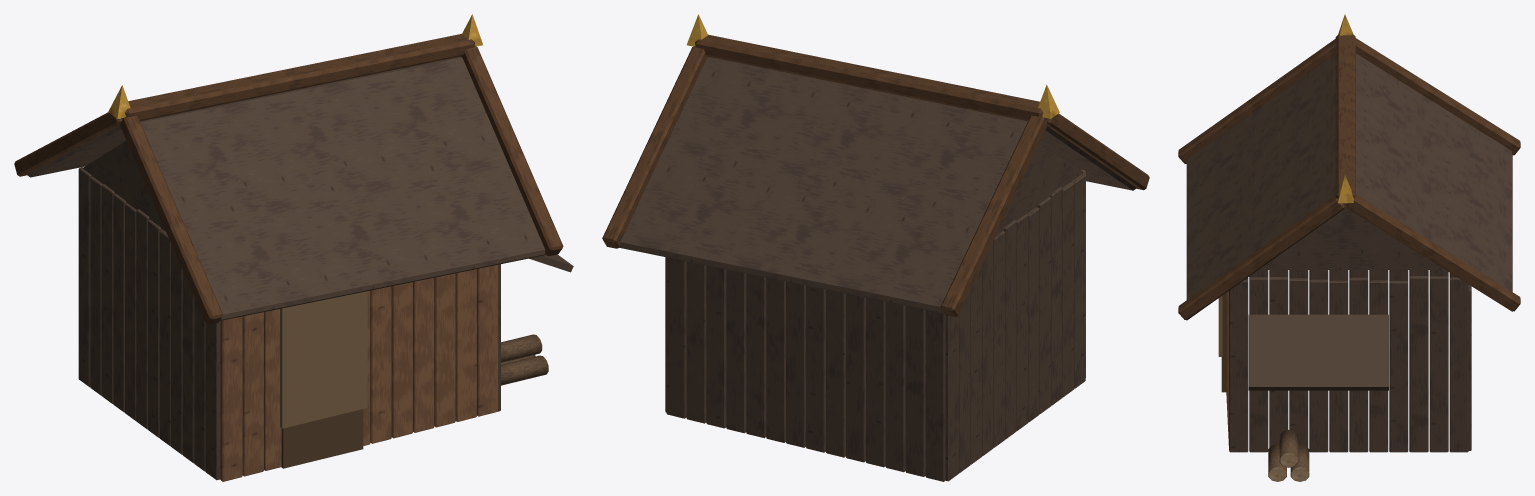
The model's file is plank_shack.glb.
3 views of the same model, side by side, from view 1: azimuth 30°, elevation 25°; view 2: azimuth 150°, elevation 25°; view 3: azimuth 270°, elevation 25° (orthographic). The views are drawn at different scales.
Parts seen in each view (by area): view 1: plank_shack_roof, plank_shack_walls, plank_shack_details; view 2: plank_shack_roof, plank_shack_walls; view 3: plank_shack_roof, plank_shack_walls, plank_shack_details.
Part boxes in pixels (left/top/right/bottom): plank_shack_roof: left=14, top=14, right=573, bottom=324; plank_shack_walls: left=78, top=140, right=500, bottom=481; plank_shack_details: left=280, top=291, right=548, bottom=468; plank_shack_roof: left=602, top=14, right=1149, bottom=316; plank_shack_walls: left=665, top=62, right=1085, bottom=481; plank_shack_roof: left=1178, top=14, right=1520, bottom=390; plank_shack_walls: left=1226, top=204, right=1471, bottom=452; plank_shack_details: left=1218, top=293, right=1309, bottom=481.
Size of what is drawn, in the model's own units: 4.05 by 3.38 by 3.42.
Materials: 8 (8 with a texture image).
